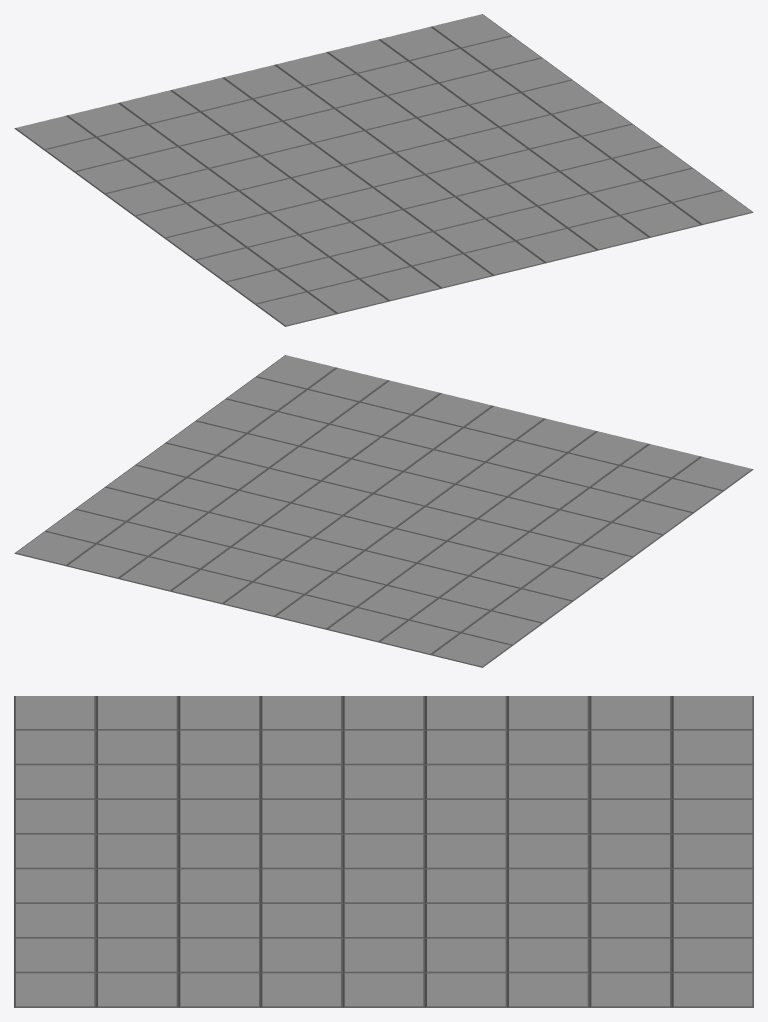
File: Floortile_10.fbx
3 views of the same model, one above another, from view 1: azimuth 30°, elevation 25°; view 2: azimuth 150°, elevation 25°; view 3: azimuth 270°, elevation 25° (orthographic). The views are drawn at different scales.
Visible parts, largest first — view 1: Floortile_10; view 2: Floortile_10; view 3: Floortile_10.
Boxes of the visible parts, x1=… form: Floortile_10: x1=14, y1=14, x2=753, y2=326; Floortile_10: x1=14, y1=355, x2=753, y2=667; Floortile_10: x1=14, y1=696, x2=753, y2=1007.
Bounding box in the file's own units: 489 × 490 × 0.6001.
